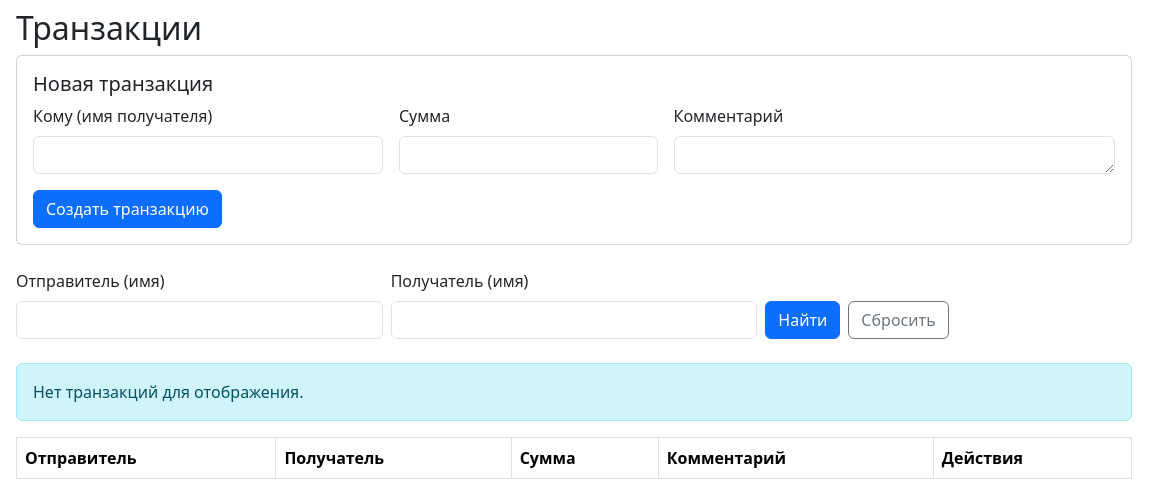
Test: Transactions page › applies between users filter
Type "User1" into the field labelled "Отправитель (имя)" at (199, 320), box [16,301,383,339]
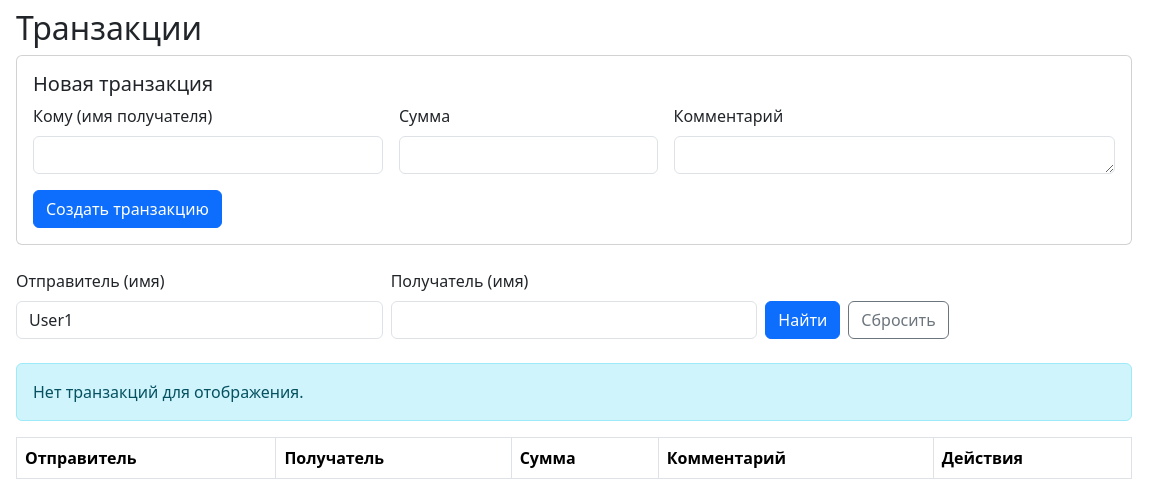
Type "User2" into the field labelled "Получатель (имя)" at (574, 320), box [391,301,757,339]
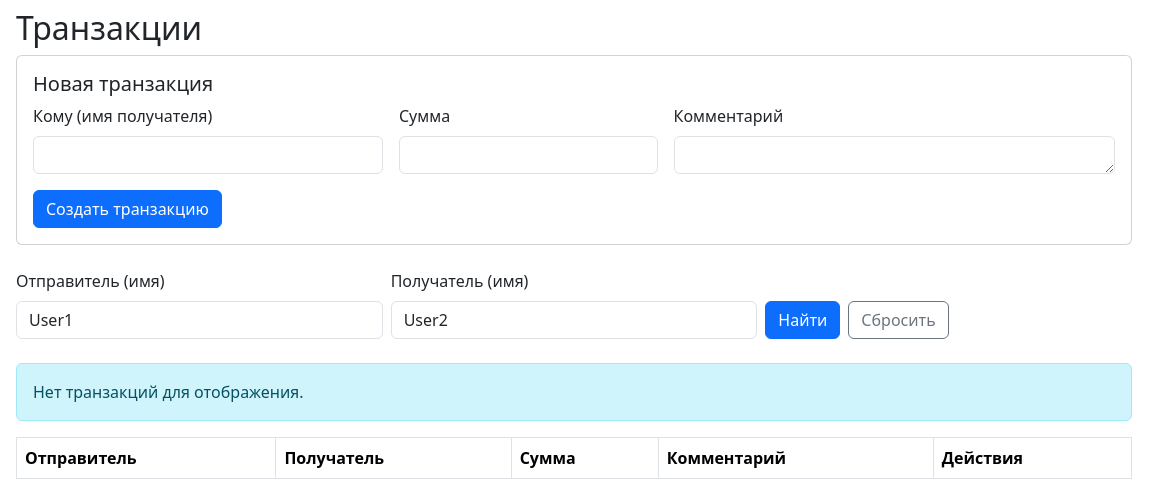
Click the button "Найти" at (803, 320), box [765,301,840,339]
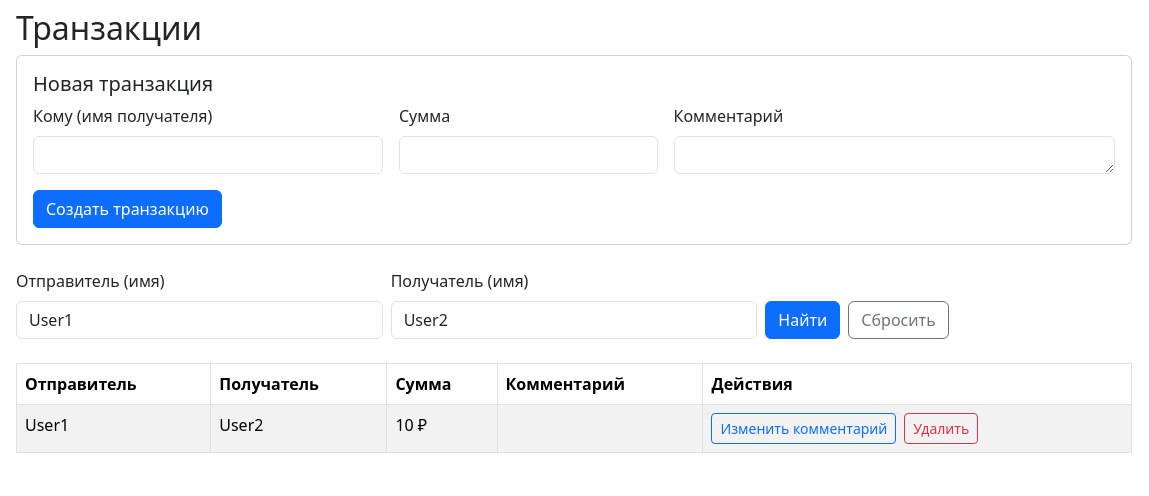
expect the text "User1" is shown: met, box [16,405,211,453]
expect the text "User2" is shown: met, box [211,405,387,453]
